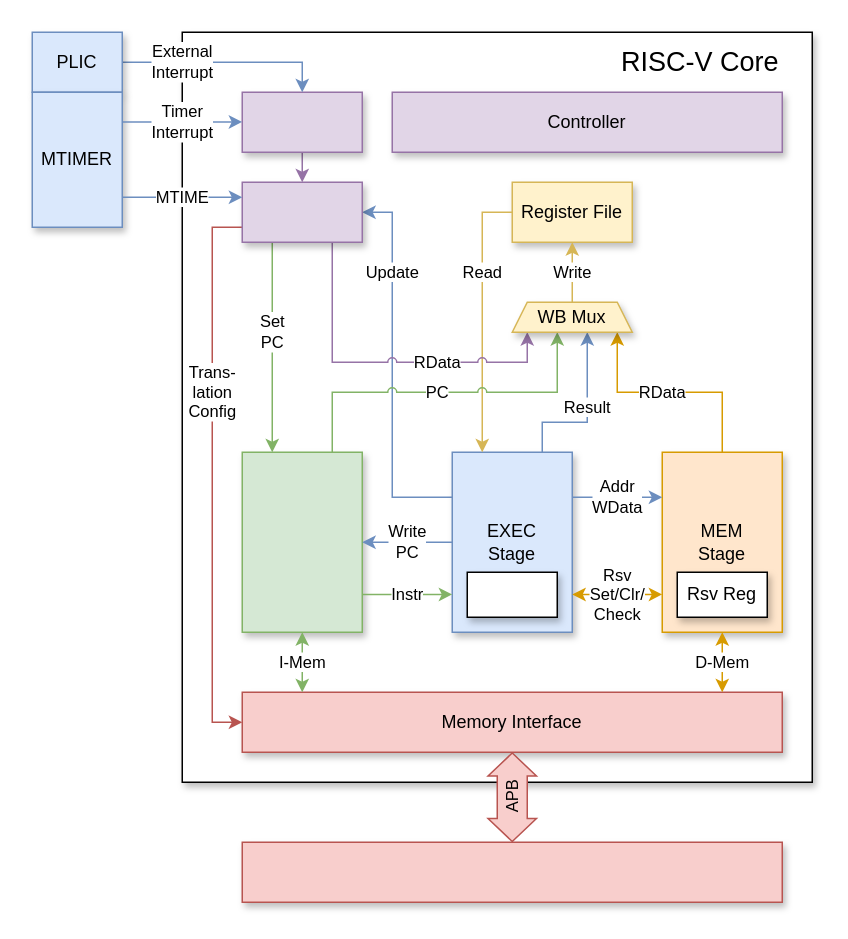
The diagram is 848 pixels wide and 939 high, and some of its shapes have lost their labels. The shapes that lost their labels are listed below. From the top down, each one's centre as x and y in pixels, then its label:
At point (303, 124): "Trap Handler".
At point (303, 214): "CSR".
At point (303, 544): "FETCH Stage".
At point (513, 596): "Decoder".
At point (513, 874): "APB Interconnect".
